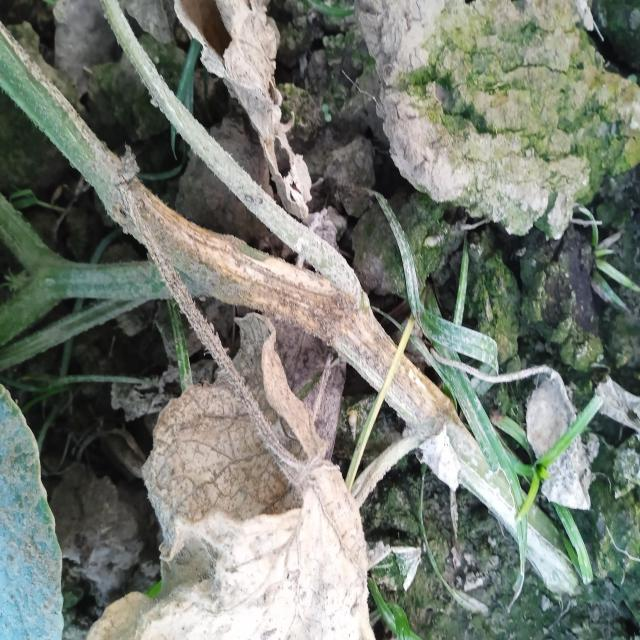cucumber_bacterial: (142, 340, 395, 640), (165, 6, 354, 213)
